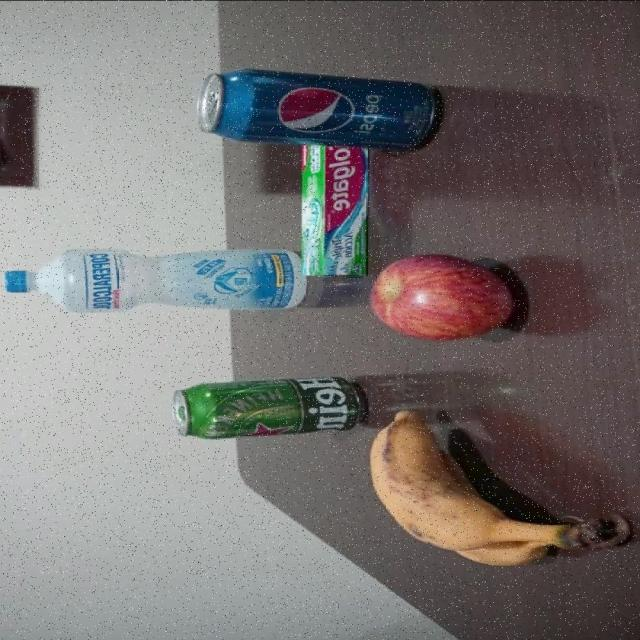AlcoholBottle: (1, 244, 306, 314)
Apple: (369, 254, 516, 341)
Banana: (366, 407, 634, 567)
BeerCan: (170, 374, 367, 441)
SodaCan: (196, 67, 446, 150)
Toothpaste: (300, 142, 372, 278)
